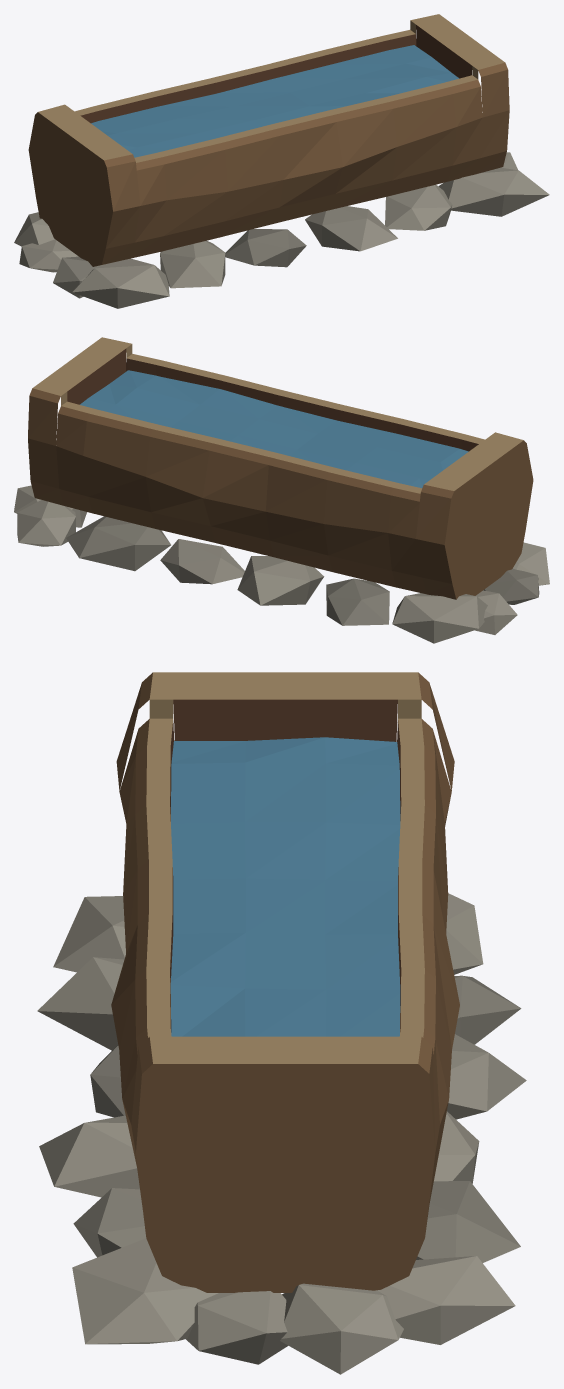
Rendered from water-trough-318ee1.glb.
The picture shows the model from 3 angles, top to bottom: view 1: azimuth 30°, elevation 25°; view 2: azimuth 150°, elevation 25°; view 3: azimuth 270°, elevation 25°; orthographic projection. The views are drawn at different scales.
Visible parts, largest first — view 1: trough-body, water-surface; view 2: trough-body, water-surface; view 3: trough-body, water-surface.
Part boxes in pixels (<box>): trough-body: <box>14,14,549,308</box>; water-surface: <box>91,45,459,157</box>; trough-body: <box>14,337,549,643</box>; water-surface: <box>80,370,468,488</box>; trough-body: <box>37,672,526,1374</box>; water-surface: <box>170,737,400,1036</box>.
Size of the model in its own units: 2.35 by 0.6551 by 1.06.
